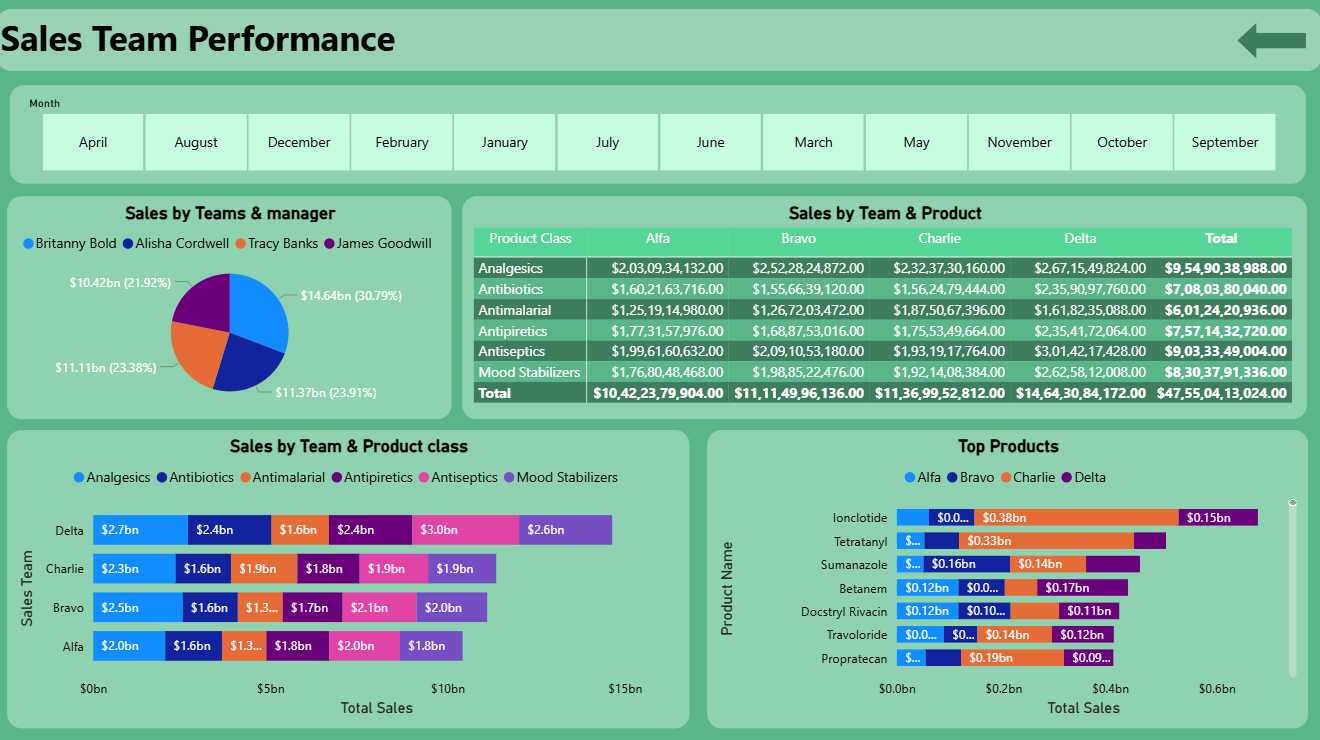

The dashboard page shown, as its layout file describes it:
{"tool":"powerbi","page":{"name":"Sales Team Performance","canvas":[1280,720],"ordinal":2},"visuals":[{"type":"shape","title":"Executive Summary","box":[0,13.7,1280.3,60.4],"z":0},{"type":"barChart","title":"Sales by Team & Product class","fields":{"Y":["FACT-sales.Total Sales"],"Category":["DIM-Sales Team.Sales Team"],"Series":["DIM-Product.Product Class"]},"box":[11.1,420.2,658.1,288],"z":1000},{"type":"shape","box":[1198,26.5,66.4,35],"z":5000},{"type":"slicer","fields":{"Values":["FACT-sales.Month"]},"box":[12.8,86.9,1251.5,95.5],"z":6000},{"type":"pivotTable","title":"Sales by Team & Product","fields":{"Rows":["DIM-Product.Product Class"],"Columns":["DIM-Sales Team.Sales Team"],"Values":["FACT-sales.Total Sales"]},"box":[450.4,193.9,815.3,215.2],"z":7000},{"type":"barChart","title":"Top Products","fields":{"Y":["FACT-sales.Total Sales"],"Category":["DIM-Product.Product Name"],"Series":["DIM-Sales Team.Sales Team"]},"box":[685.9,420.2,580.2,288],"z":8000},{"type":"pieChart","title":"Sales by Teams & manager","fields":{"Y":["FACT-sales.Total Sales"],"Series":["DIM-Sales Team.Sales Team"],"Category":["DIM-Sales Team.Manager"]},"box":[11.4,193.9,429,215.2],"z":10000}]}

Visuals, with their boxes in screenshot pixels (x1, y1, x2, y2), scaled from the page's 1280x720 canvas onto the 1320x740 screenshot:
"Executive Summary" shape: bbox(0, 14, 1319, 76)
"Sales by Team & Product class" barChart: bbox(11, 432, 690, 728)
shape: bbox(1235, 27, 1304, 63)
slicer - FACT-sales.Month: bbox(13, 89, 1304, 187)
"Sales by Team & Product" pivotTable: bbox(464, 199, 1305, 420)
"Top Products" barChart: bbox(707, 432, 1306, 728)
"Sales by Teams & manager" pieChart: bbox(12, 199, 454, 420)
